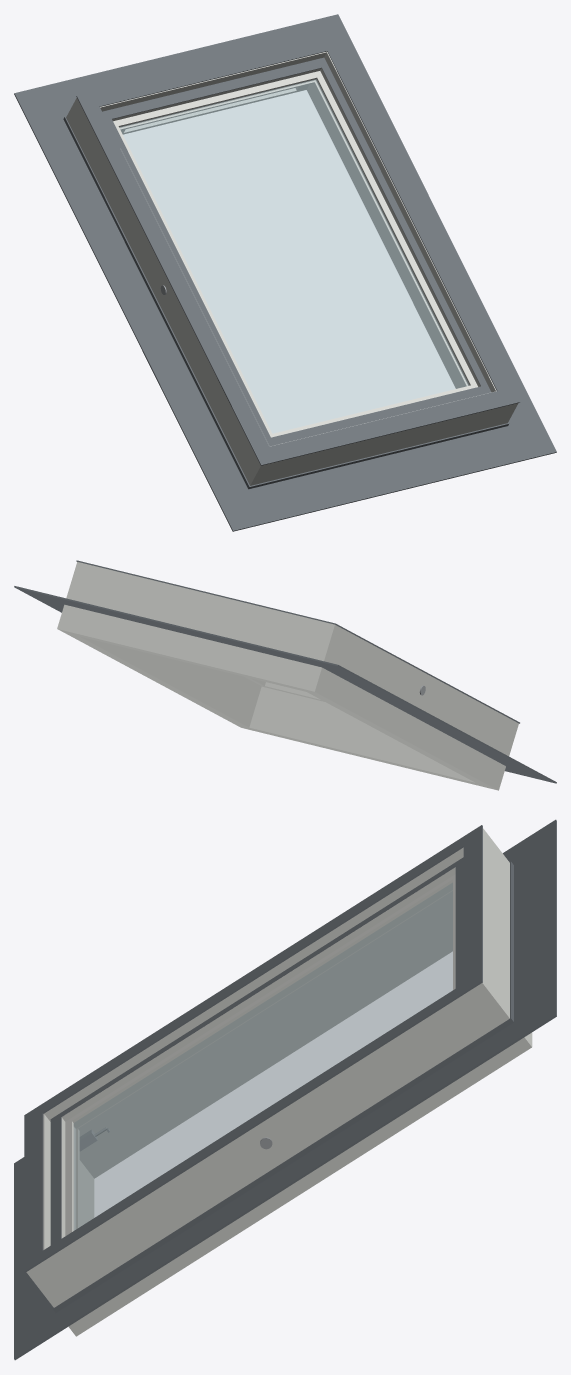
3 renders of one model, top to bottom at view 1: azimuth 30°, elevation 25°; view 2: azimuth 150°, elevation 25°; view 3: azimuth 270°, elevation 25°, orthographic. The views are drawn at different scales.
Visible parts, largest first — view 1: 10_Glazing, 02_Flashing_apron, 08_Outer_cladding, 09_Sash_with_glazing_rebate, 11_Sash_front_trim, 03_L_Frame_side_with_bore, 07_Frame_sill, 01_Lining_curb, 03_R_Frame_side_with_bore, 06_Frame_head, 14_Released_vent_bar; view 2: 01_Lining_curb, 06_Frame_head, 03_L_Frame_side_with_bore, 02_Flashing_apron, 03_R_Frame_side_with_bore, 07_Frame_sill, 08_Outer_cladding, 09_Sash_with_glazing_rebate; view 3: 10_Glazing, 02_Flashing_apron, 03_R_Frame_side_with_bore, 01_Lining_curb, 08_Outer_cladding, 09_Sash_with_glazing_rebate, 03_L_Frame_side_with_bore, 11_Sash_front_trim, 06_Frame_head, 07_Frame_sill.
Part boxes in pixels (x1,y1,x2,y2): 10_Glazing: [119, 79, 469, 433]; 02_Flashing_apron: [14, 14, 556, 531]; 08_Outer_cladding: [76, 32, 519, 465]; 09_Sash_with_glazing_rebate: [112, 68, 480, 437]; 11_Sash_front_trim: [102, 57, 491, 446]; 03_L_Frame_side_with_bore: [66, 98, 275, 485]; 07_Frame_sill: [266, 391, 502, 481]; 01_Lining_curb: [123, 83, 465, 388]; 03_R_Frame_side_with_bore: [324, 52, 518, 426]; 06_Frame_head: [100, 51, 326, 111]; 14_Released_vent_bar: [122, 88, 301, 133]; 01_Lining_curb: [57, 604, 505, 790]; 06_Frame_head: [82, 565, 319, 657]; 03_L_Frame_side_with_bore: [308, 621, 518, 756]; 02_Flashing_apron: [14, 586, 556, 783]; 03_R_Frame_side_with_bore: [66, 562, 261, 698]; 07_Frame_sill: [258, 686, 368, 725]; 08_Outer_cladding: [76, 560, 519, 723]; 09_Sash_with_glazing_rebate: [244, 676, 324, 701]; 10_Glazing: [73, 883, 452, 1230]; 02_Flashing_apron: [14, 819, 556, 1360]; 03_R_Frame_side_with_bore: [26, 975, 509, 1307]; 01_Lining_curb: [68, 910, 532, 1336]; 08_Outer_cladding: [24, 825, 482, 1272]; 09_Sash_with_glazing_rebate: [61, 867, 455, 1238]; 03_L_Frame_side_with_bore: [43, 828, 509, 1136]; 11_Sash_front_trim: [50, 857, 463, 1245]; 06_Frame_head: [483, 838, 509, 1008]; 07_Frame_sill: [43, 1114, 50, 1249].
Bounding box in the file's own units: 0.98 × 0.8396 × 1.15.
